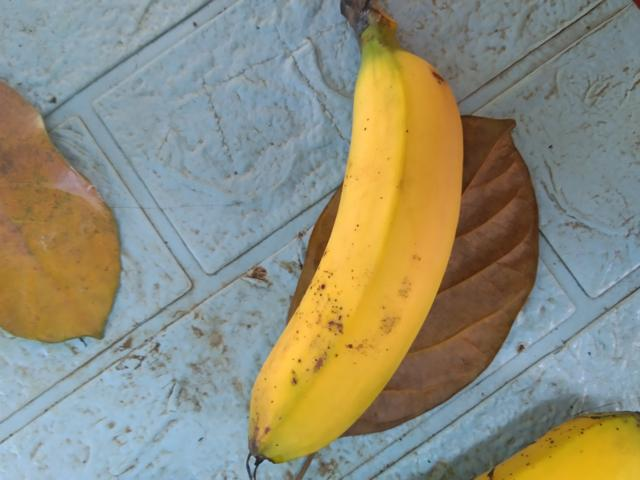ripe: (205, 51, 477, 479)
